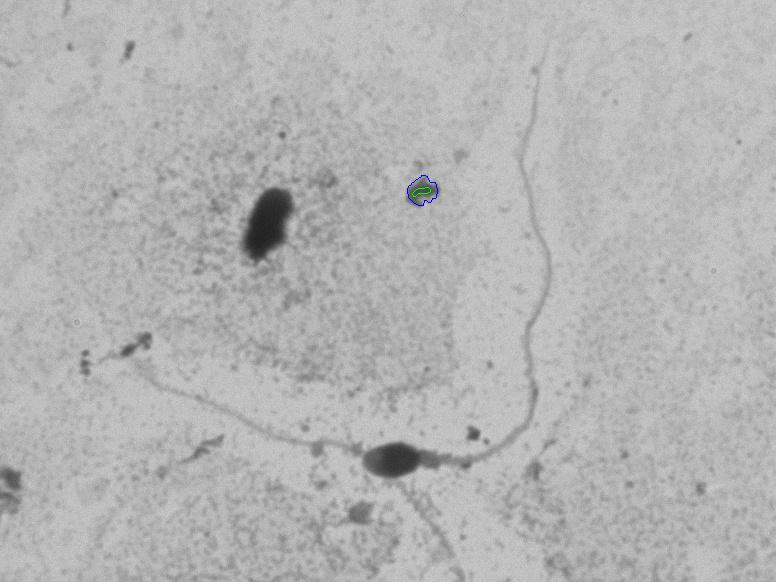Normal: (355, 54, 603, 516)
